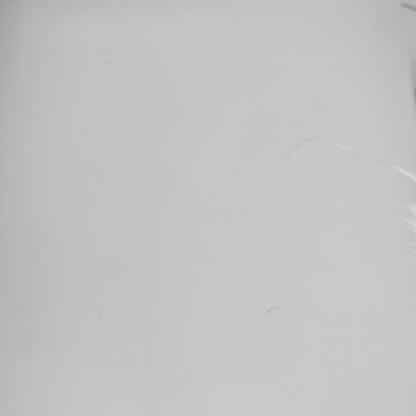sunshang: (332, 141, 416, 184), (400, 201, 416, 265)
